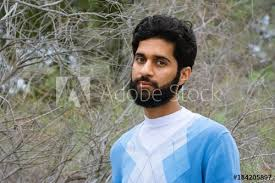middle_eastern_male: (129, 34, 179, 96)
